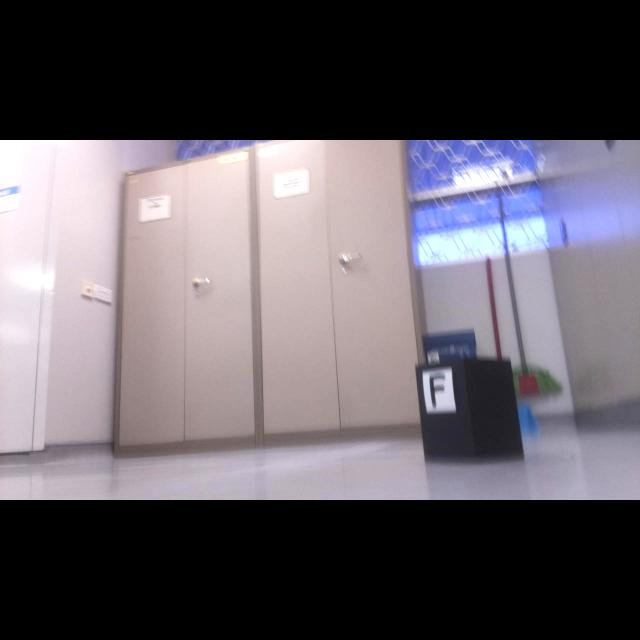F: (430, 374, 445, 408)
